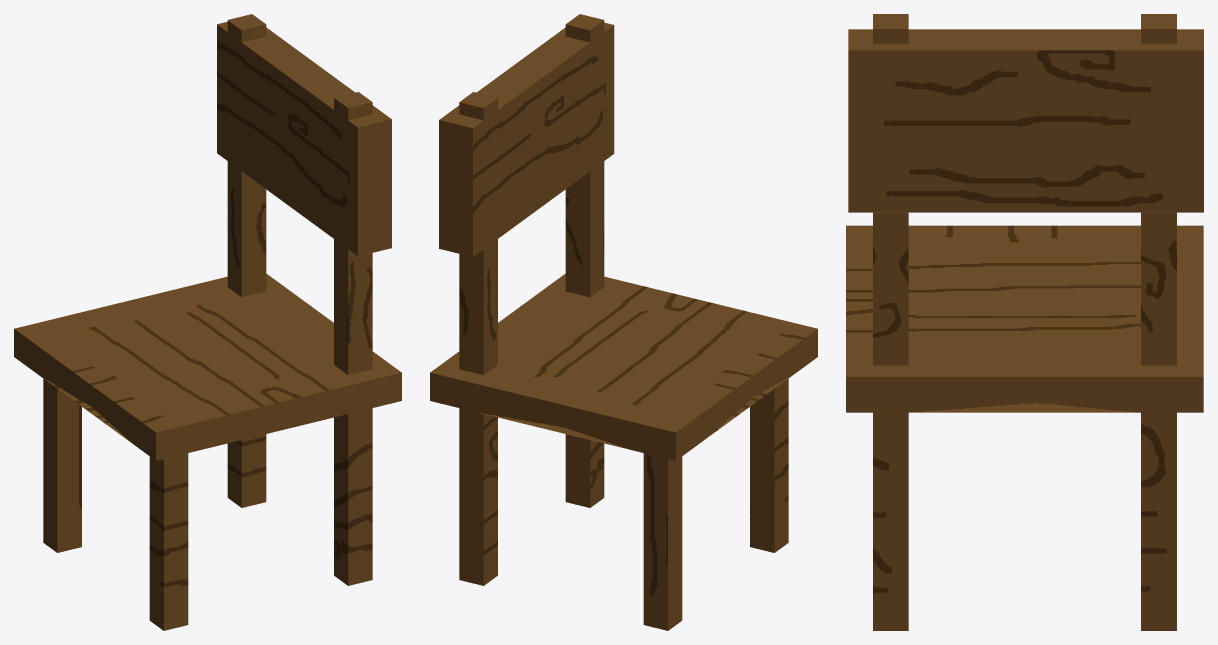
File: Chair.fbx
3 renders of one model, left to right at view 1: azimuth 30°, elevation 25°; view 2: azimuth 150°, elevation 25°; view 3: azimuth 270°, elevation 25°, orthographic. The views are drawn at different scales.
Visible parts, largest first — view 1: Cube; view 2: Cube; view 3: Cube.
Boxes of the visible parts, box(x1,y1,x2,y2) form: Cube: box(14, 14, 401, 630); Cube: box(430, 14, 817, 630); Cube: box(846, 14, 1203, 630).
Bounding box in the file's own units: 200 × 200 × 371.
